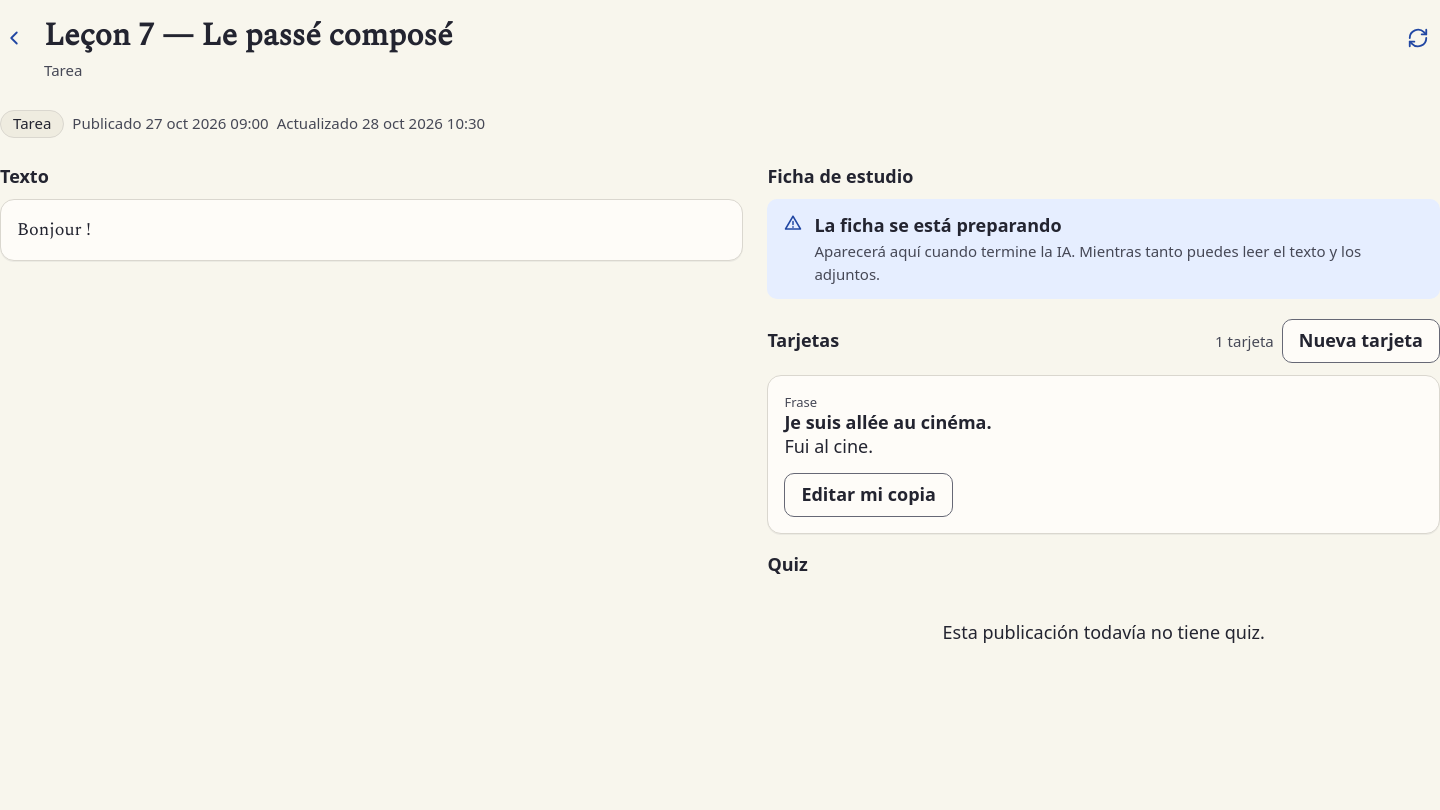
Test: Nueva tarjeta abre el diálogo de creación
Click the button "Nueva tarjeta": point(1361, 341) [1282,319,1439,363]
(page scrolled)
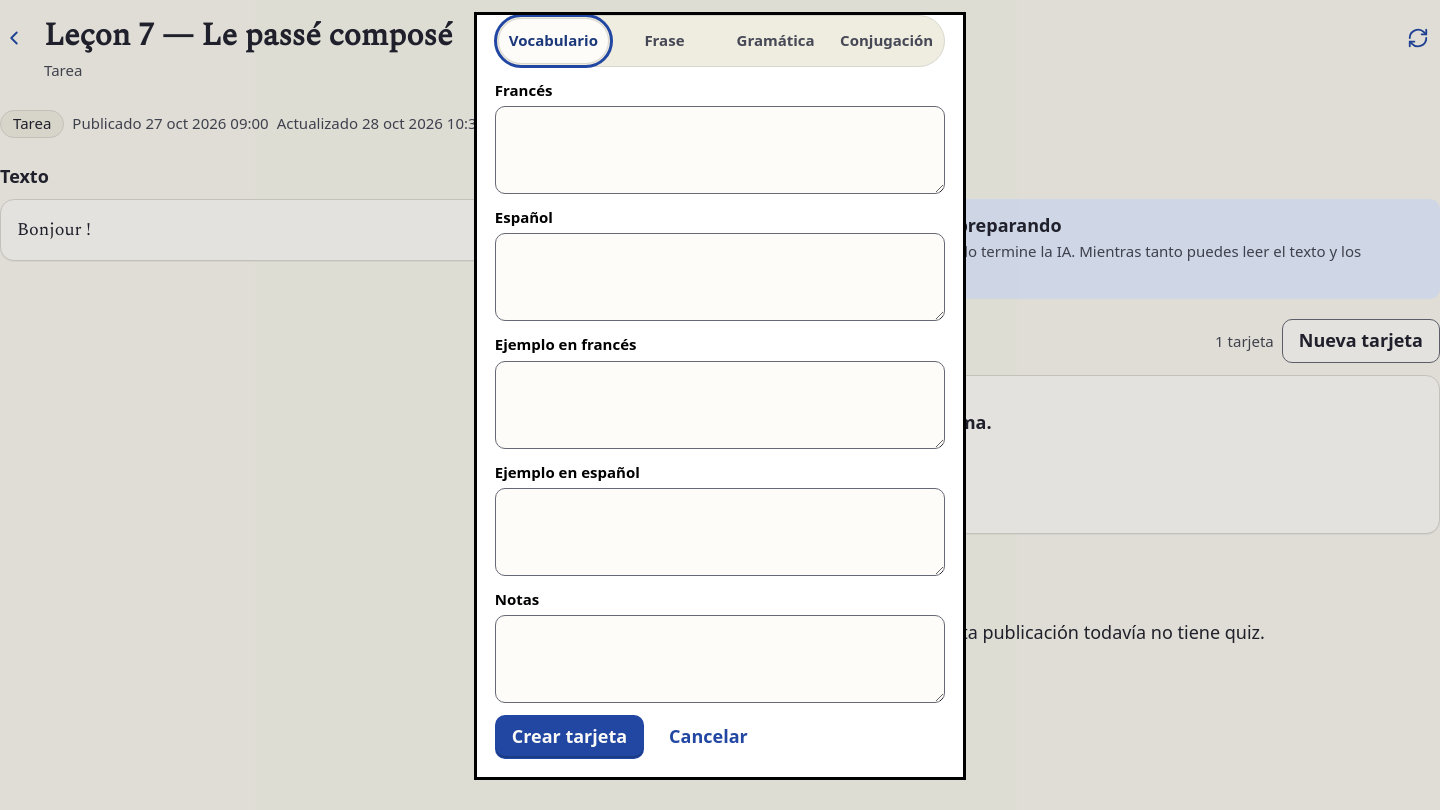
Expected: the text box labelled "Francés" is shown, [495,106,945,194]
Expected: the button "Crear tarjeta" is shown, [495,715,644,759]
